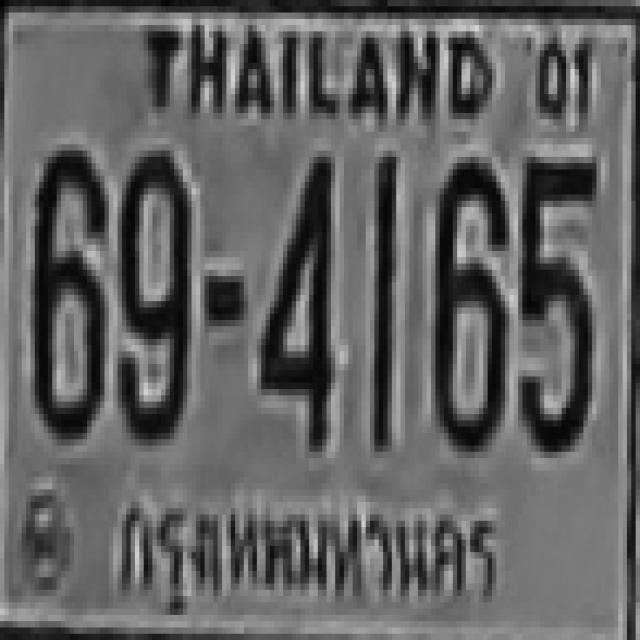1: (370, 151, 396, 439)
4: (257, 150, 331, 446)
5: (516, 154, 590, 448)
6: (30, 144, 104, 433), (431, 157, 505, 445)
9: (113, 144, 187, 433)
Bangkok: (104, 484, 509, 631)
